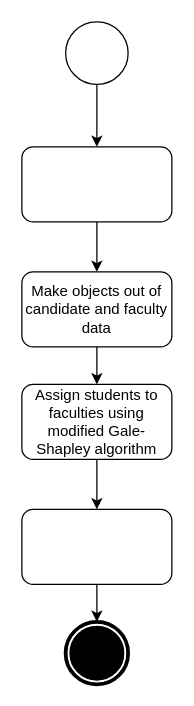
Some shapes in this 194 by 706 pixel diagram are drawn without their labels. The shapes that lost their labels are listed below. From the top down, each one's centre as x and y in pixels, then its label:
At (x=96, y=184): "Load candidates and faculties".
At (x=96, y=546): "Export data as JSON".
